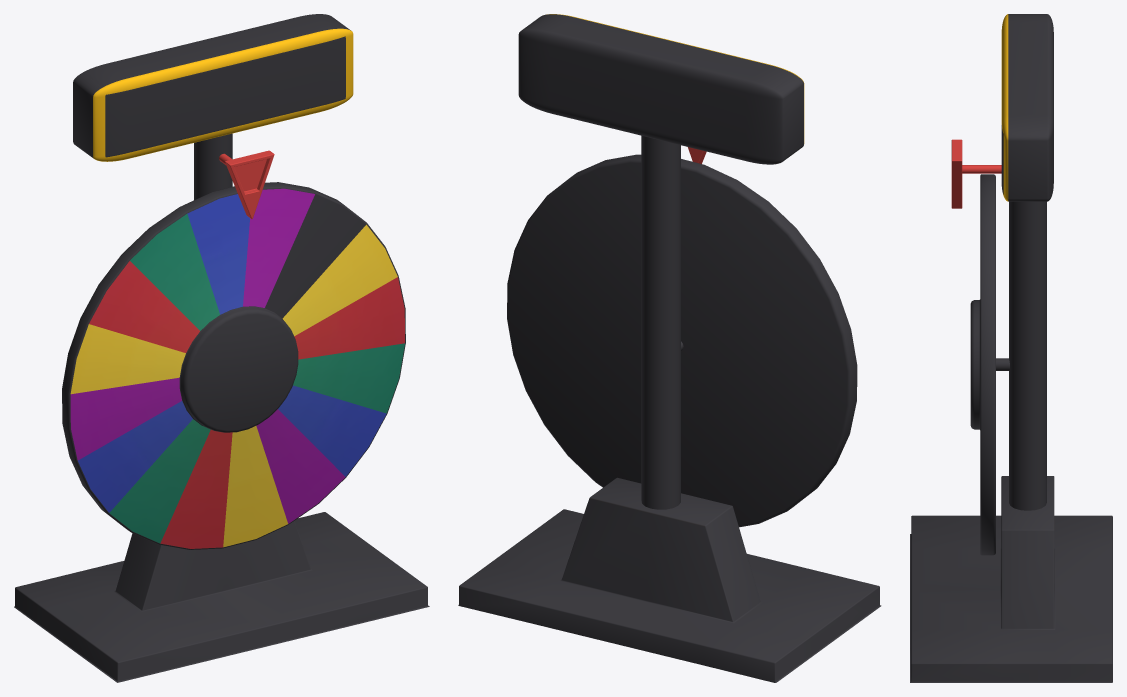
The model's file is bonus-wheel1.glb.
The picture shows the model from 3 angles, left to right: view 1: azimuth 30°, elevation 25°; view 2: azimuth 150°, elevation 25°; view 3: azimuth 270°, elevation 25°; orthographic projection. The views are drawn at different scales.
Parts seen in each view (by area): view 1: wheel; view 2: wheel; view 3: wheel.
Part boxes in pixels (left/top/right/bottom): wheel: left=14, top=14, right=429, bottom=682; wheel: left=458, top=14, right=881, bottom=682; wheel: left=910, top=14, right=1112, bottom=682.
Bounding box in the file's own units: 5.38 × 8.42 × 2.86.
1 material, 1 textured.
